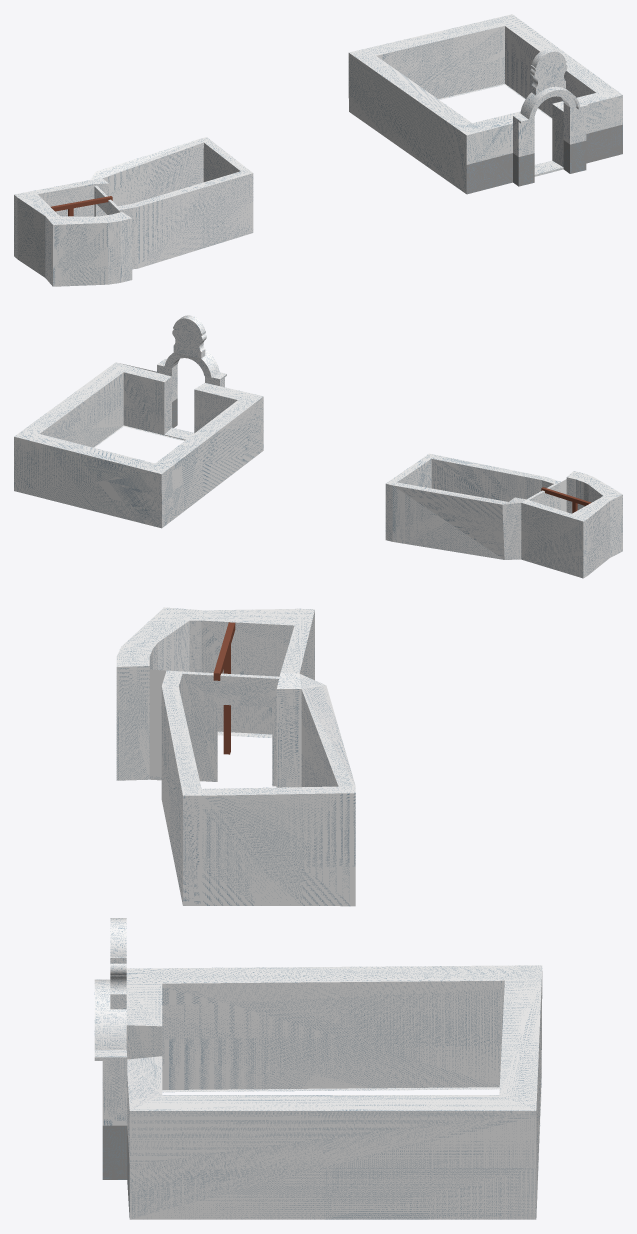
File: sklep_obvodove_steny.dae
The picture shows the model from 3 angles, top to bottom: view 1: azimuth 30°, elevation 25°; view 2: azimuth 150°, elevation 25°; view 3: azimuth 270°, elevation 25°; orthographic projection. The views are drawn at different scales.
Parts seen in each view (by area): view 1: group_3 (×3), group_0, group_4; view 2: group_3, group_0, group_4; view 3: group_3 (×2), group_0 (×2), group_4.
Boxes of the visible parts, x1=… form: group_3 (×3): x1=348, y1=14, x2=622, y2=194; group_0: x1=14, y1=137, x2=253, y2=286; group_4: x1=520, y1=48, x2=580, y2=119; group_3: x1=14, y1=359, x2=263, y2=528; group_0: x1=385, y1=453, x2=622, y2=578; group_4: x1=164, y1=315, x2=219, y2=377; group_3 (×2): x1=94, y1=965, x2=542, y2=1219; group_0 (×2): x1=116, y1=607, x2=355, y2=906; group_4: x1=94, y1=918, x2=126, y2=1049.
Bounding box in the file's own units: 575 × 216 × 127.
